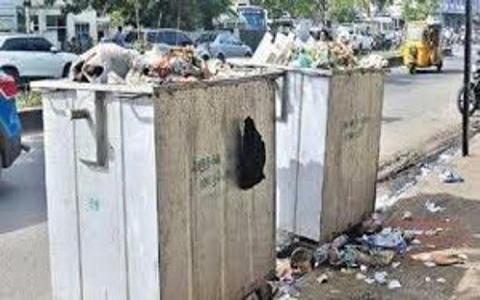overflowing garbage: (34, 58, 304, 295), (317, 40, 401, 277)
